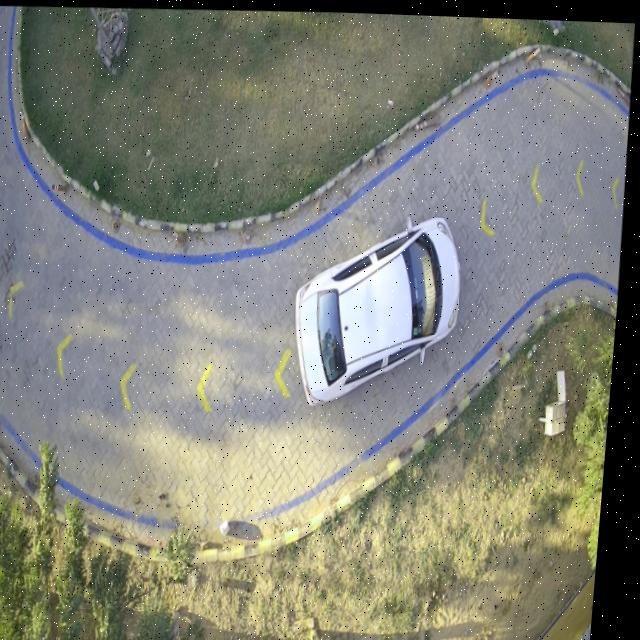car: (300, 213, 465, 403)
